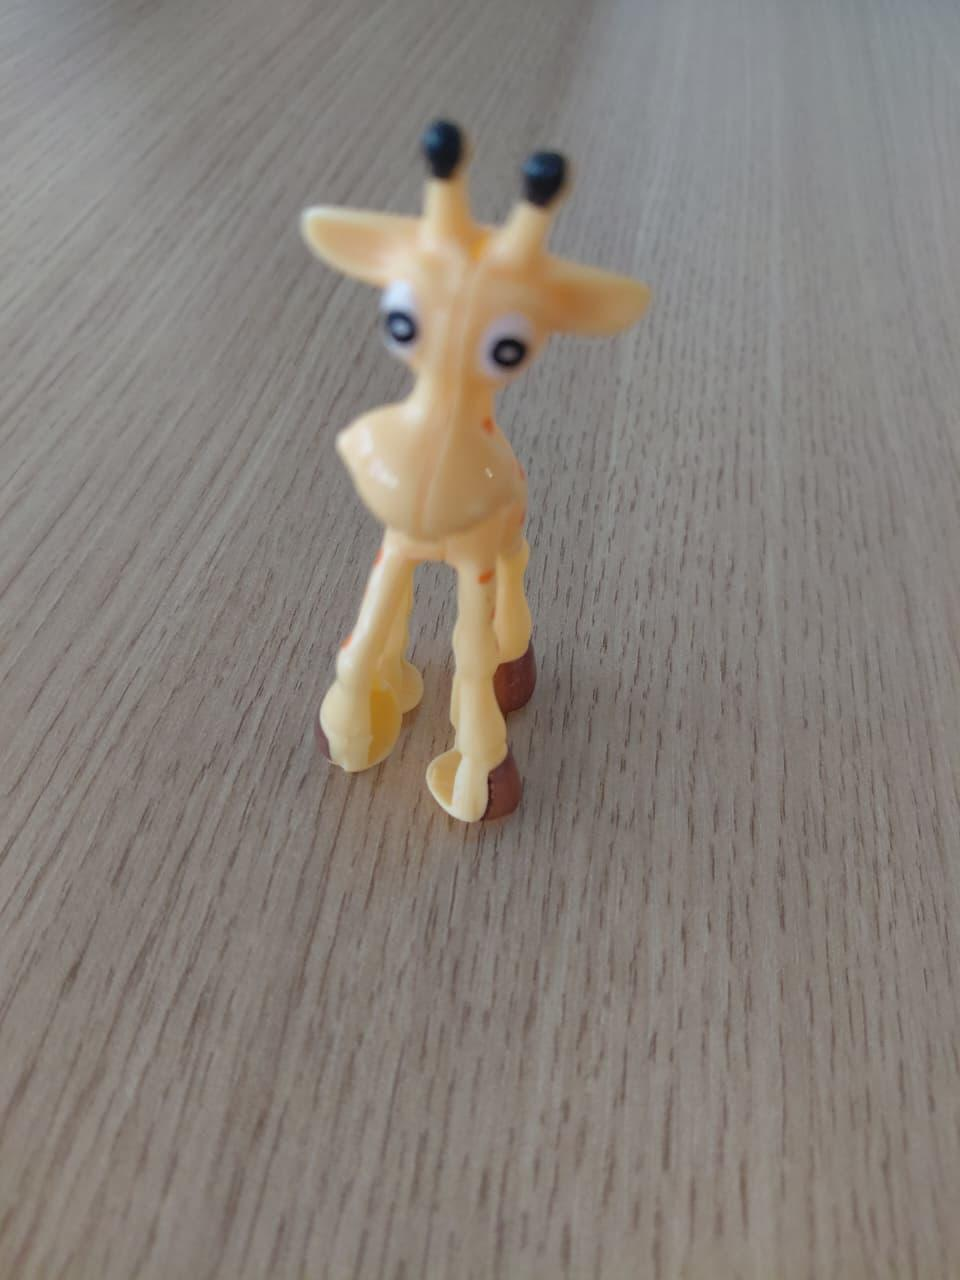giraffe: (230, 63, 736, 929)
